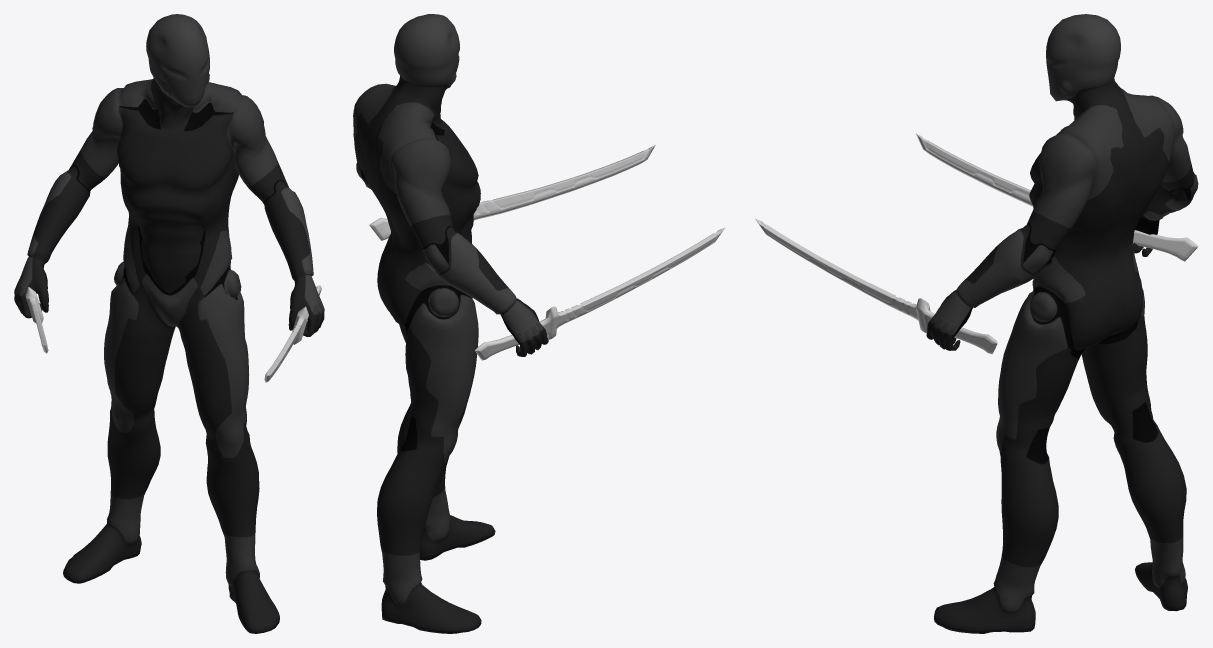
3 views of the same model, side by side, from view 1: azimuth 30°, elevation 25°; view 2: azimuth 150°, elevation 25°; view 3: azimuth 270°, elevation 25° (orthographic). The views are drawn at different scales.
Visible parts, largest first — view 1: Cyborg_Ninja_Killer, Sword_l, Sword_l001; view 2: Cyborg_Ninja_Killer, Sword_l001, Sword_l; view 3: Cyborg_Ninja_Killer, Sword_l, Sword_l001.
Boxes of the visible parts, x1,y1,x2,y2 form: Cyborg_Ninja_Killer: (14,14,324,633); Sword_l: (264,285,321,382); Sword_l001: (25,287,48,353); Cyborg_Ninja_Killer: (353,14,548,633); Sword_l001: (475,227,725,360); Sword_l: (369,145,655,240); Cyborg_Ninja_Killer: (926,14,1198,633); Sword_l: (754,218,997,354); Sword_l001: (915,133,1198,261).
Bounding box in the file's own units: 106 × 182 × 123.
